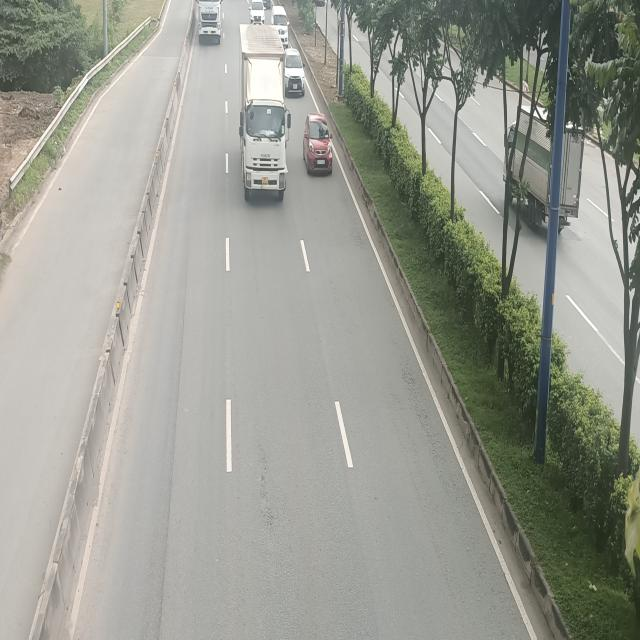car: (303, 113, 334, 177), (283, 49, 305, 97), (249, 0, 264, 24)
truck: (238, 25, 291, 204)
van: (271, 4, 288, 44)
